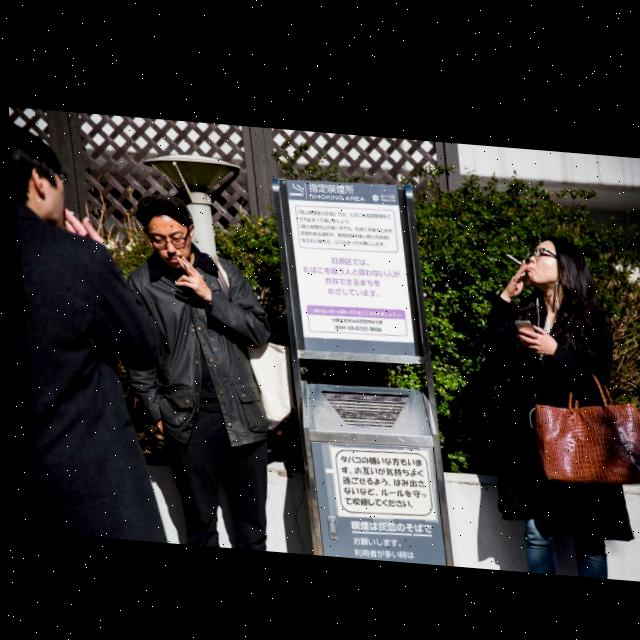cigarette: (502, 245, 518, 256), (176, 255, 186, 266), (65, 210, 70, 213)
